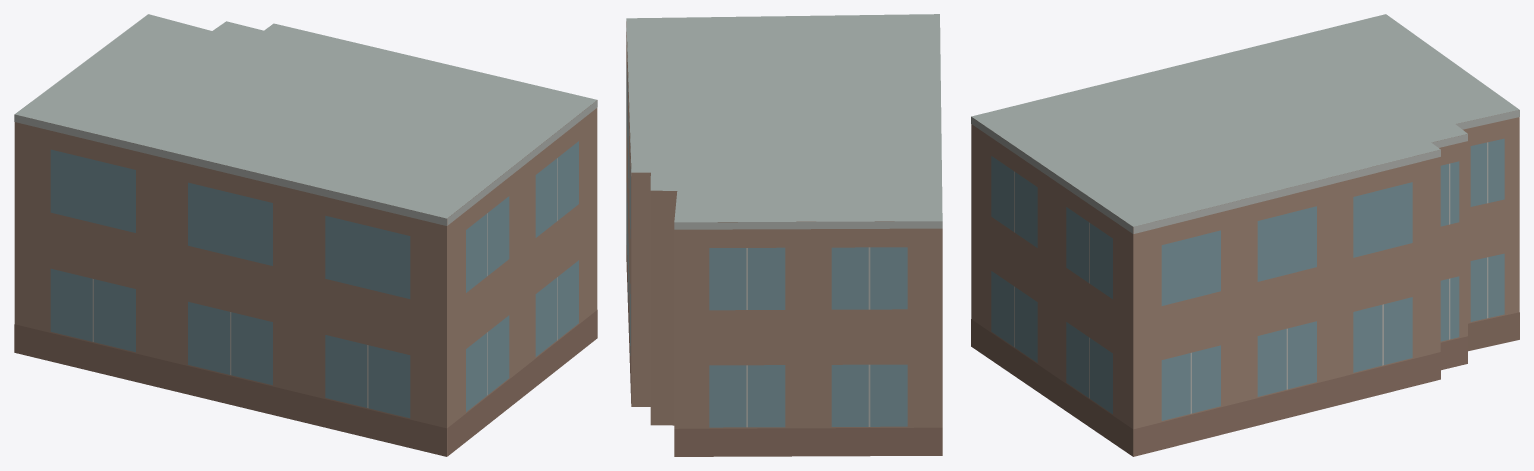
The model's file is survey-upis-32629479.glb.
The picture shows the model from 3 angles, left to right: view 1: azimuth 30°, elevation 25°; view 2: azimuth 150°, elevation 25°; view 3: azimuth 270°, elevation 25°; orthographic projection. The views are drawn at different scales.
Parts seen in each view (by area): view 1: survey-upis-32629479.tmp; view 2: survey-upis-32629479.tmp; view 3: survey-upis-32629479.tmp.
Part boxes in pixels (x1,y1,x2,y2): survey-upis-32629479.tmp: [14, 14, 597, 456]; survey-upis-32629479.tmp: [626, 14, 942, 456]; survey-upis-32629479.tmp: [971, 14, 1519, 456].
Size of the model in its own units: 15.3 by 7.7 by 16.66.
